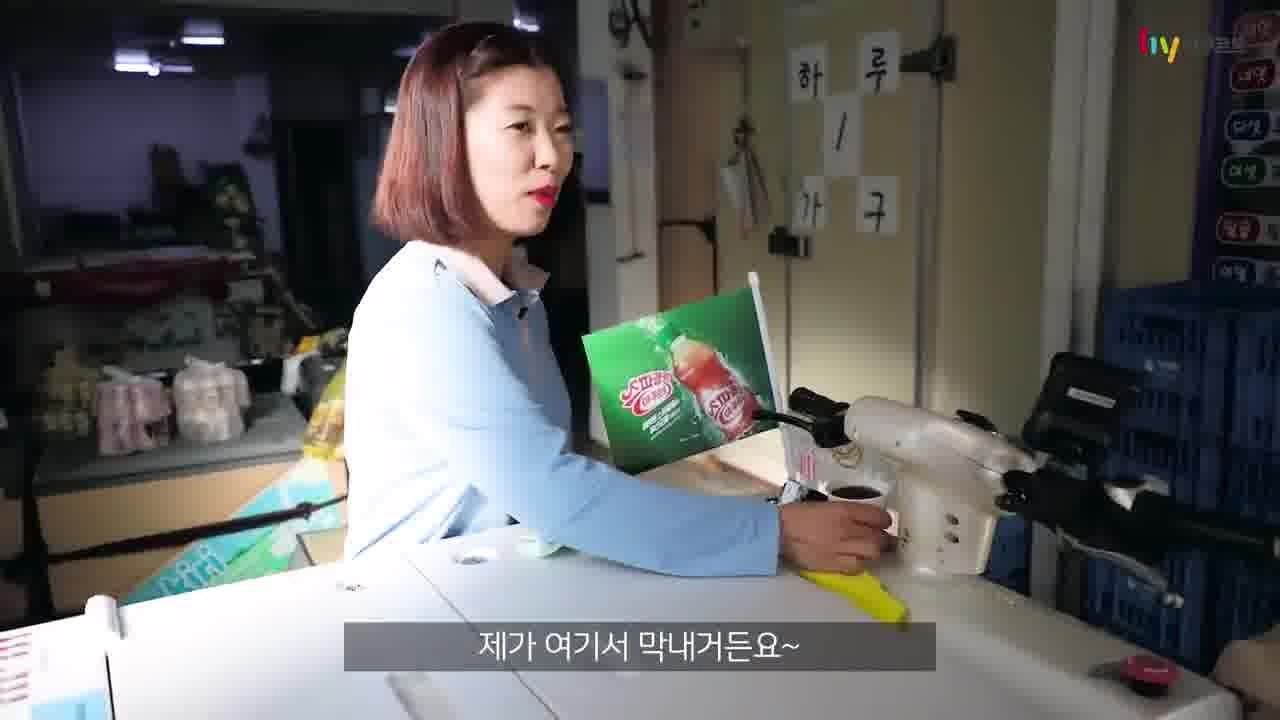Yakurut: (296, 3, 925, 617)
